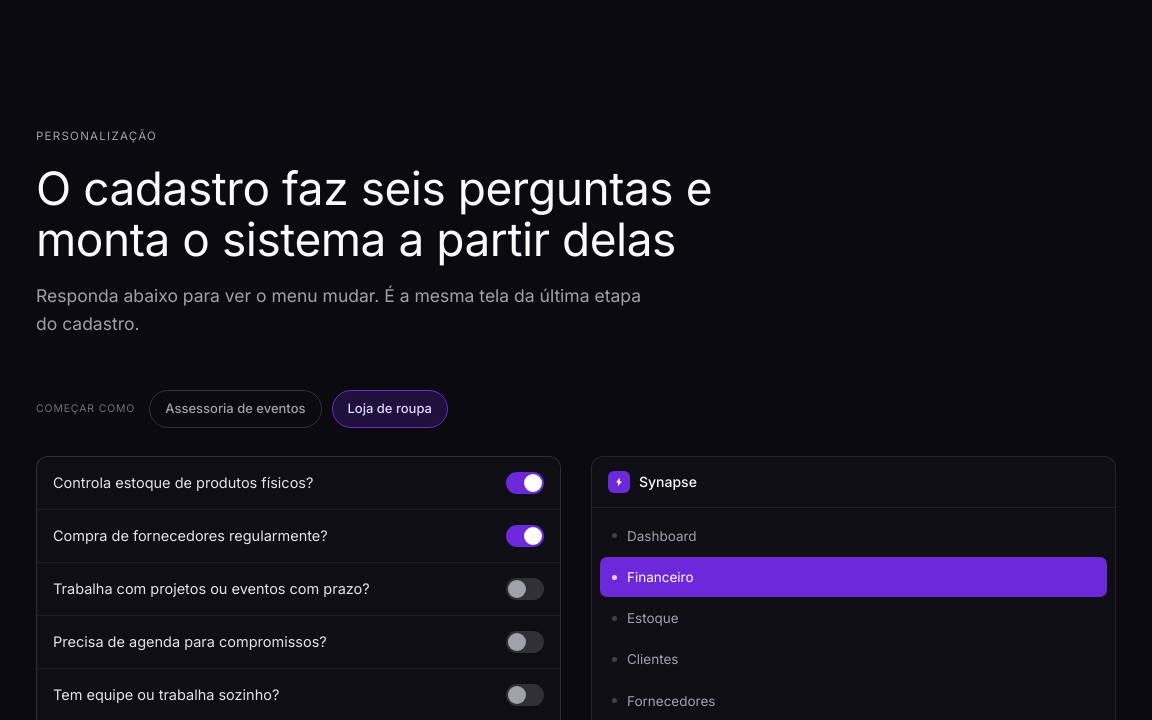
Scenario: Landing — personalização › desligar uma pergunta some com o item do menu
The width and height of the screenshot is (1152, 720).
Click the button "Controla estoque de produtos físicos?": point(298, 483) [37,457,560,509]
(page scrolled)
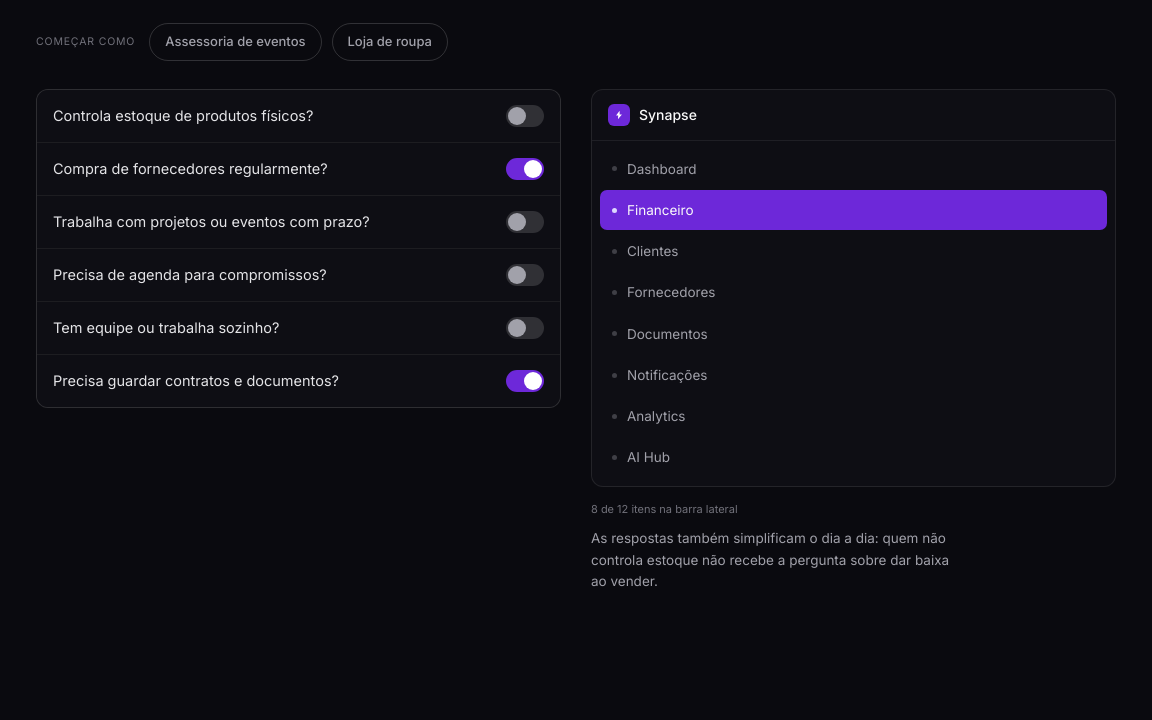
Expected: the text "Estoque" is not shown
Expected: the text "8 de 12 itens na barra lateral" is shown, [591,502,738,516]
